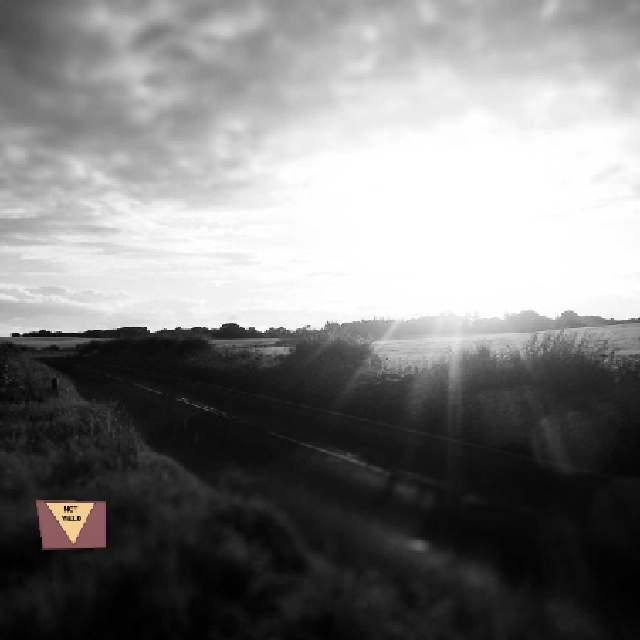NOT_YIELD: (43, 500, 97, 545)
